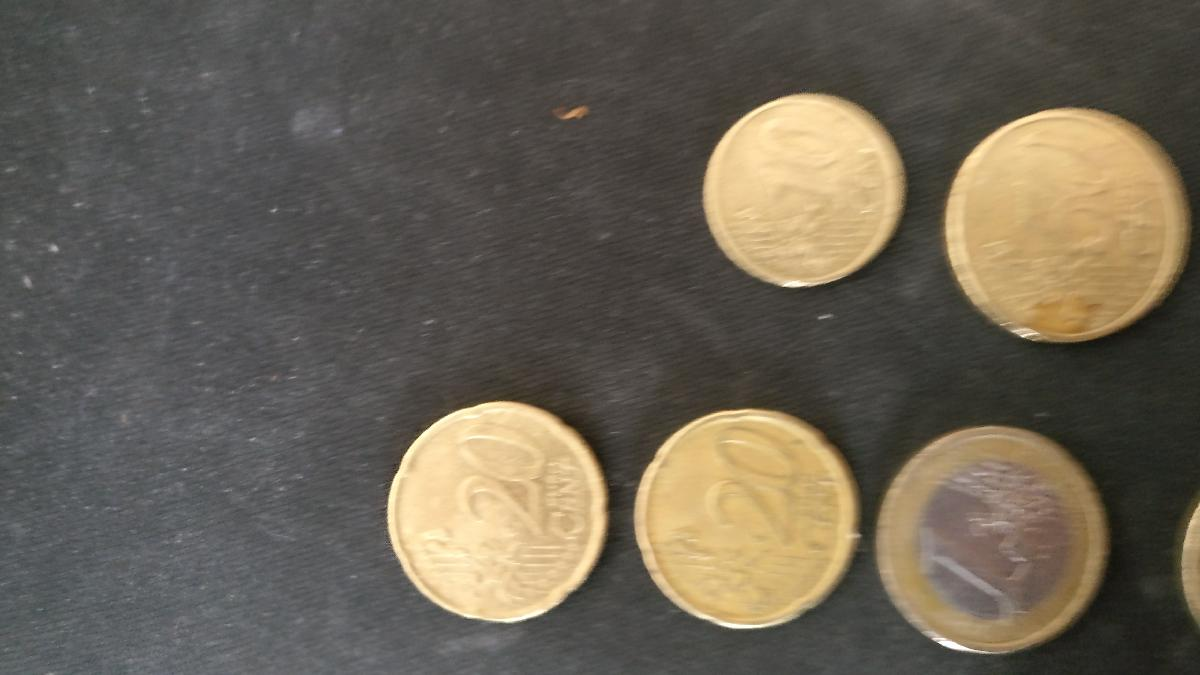Fifty Cent: (943, 106, 1191, 346)
One Euro: (870, 428, 1109, 651)
Ten Cent: (705, 86, 905, 291)
Twenty Cent: (635, 407, 861, 631), (387, 398, 609, 623)
